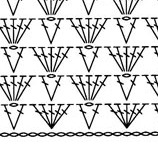double treble: (2, 120, 76, 147)
enseble_chain: (41, 97, 79, 135), (82, 70, 118, 107), (6, 14, 42, 51), (6, 71, 42, 107), (25, 97, 59, 135), (82, 14, 117, 50), (121, 42, 155, 79), (47, 43, 79, 78), (100, 40, 130, 77), (117, 72, 148, 106), (27, 42, 56, 78), (2, 45, 32, 77), (4, 102, 33, 134), (118, 16, 146, 48), (43, 16, 71, 48), (79, 102, 107, 133), (44, 73, 71, 104), (68, 71, 93, 104), (67, 15, 92, 48), (35, 69, 59, 103), (35, 16, 57, 47), (0, 73, 21, 103), (0, 16, 18, 46), (120, 102, 136, 128), (121, 0, 134, 16), (46, 0, 59, 16)
fan: (69, 15, 93, 46), (73, 44, 95, 75), (0, 16, 18, 47), (45, 45, 62, 73), (82, 74, 99, 101), (82, 17, 98, 45), (7, 76, 23, 102), (43, 103, 58, 128)
